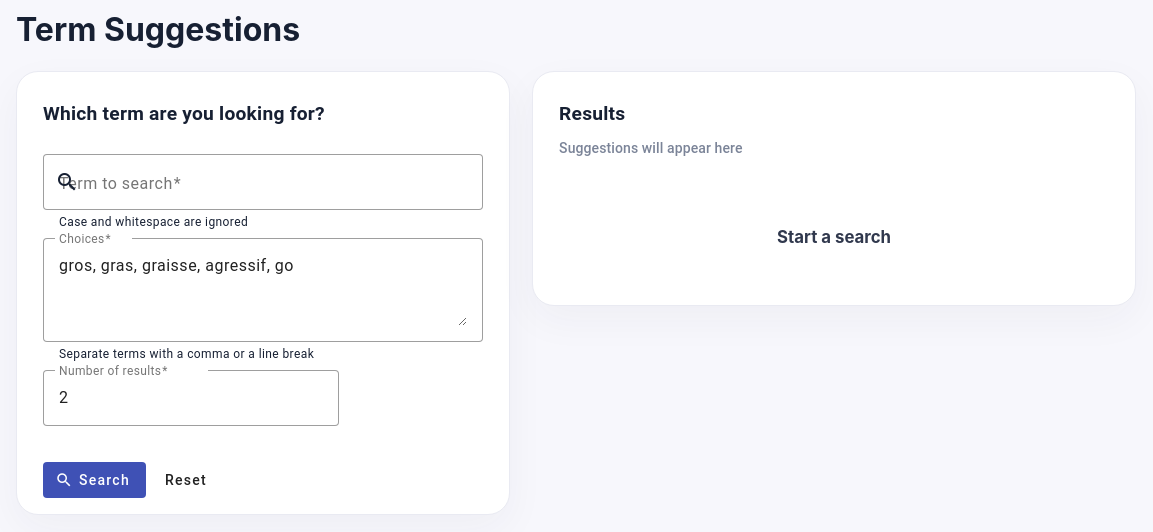
Test: TermSuggestionsComponent › reacts to real user interaction: typing in the input and submitting the form
Step 1. Type "gros" into the field labelled "Term to search" → (281,182), box left=95, top=170, right=467, bottom=194
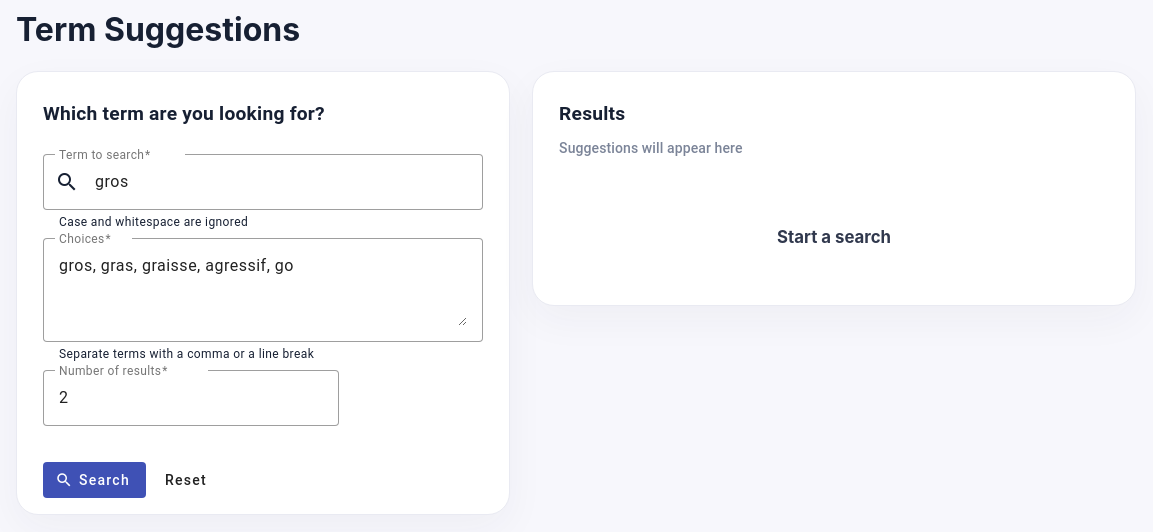
Step 2. Submit the form, box left=43, top=154, right=483, bottom=498
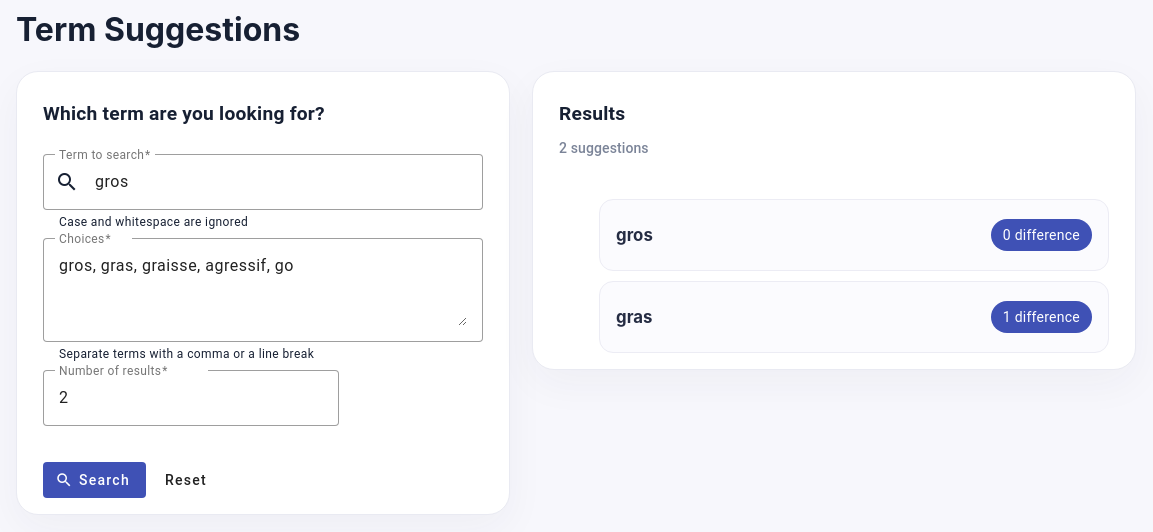
Now the list item with class "suggestion-row" showing "gros 0 difference" is shown, box left=599, top=199, right=1109, bottom=271
Now the text "gros" is shown, box left=616, top=225, right=653, bottom=245
